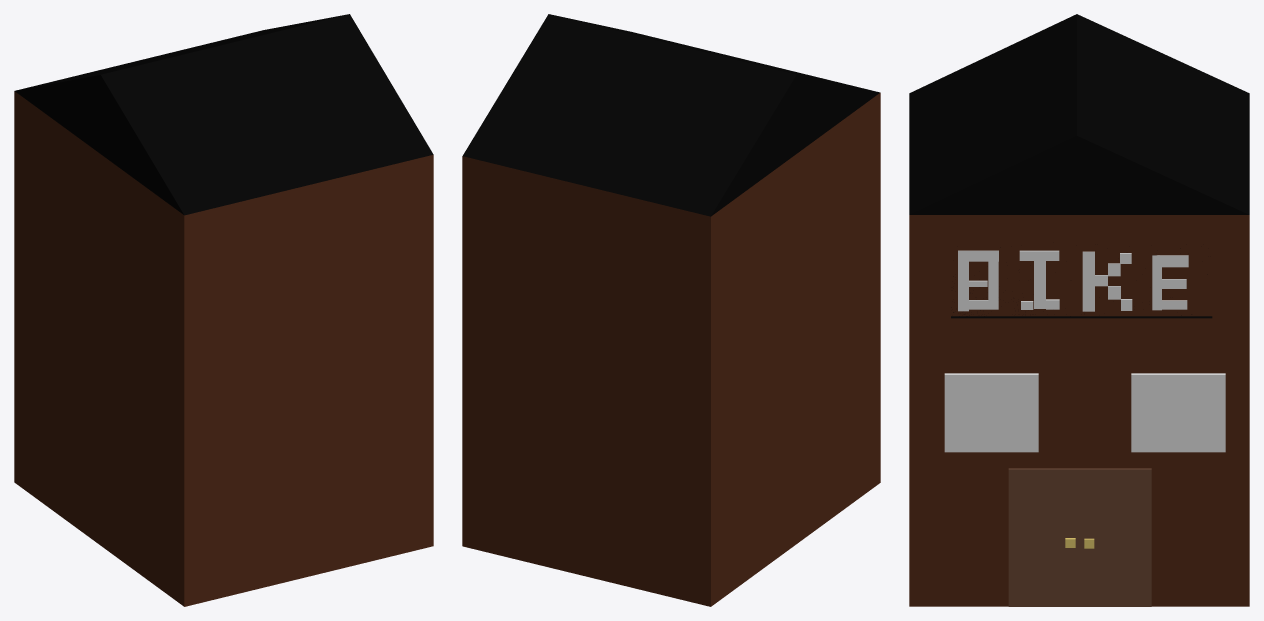
The model's file is BikeshopFixed2.fbx.
The picture shows the model from 3 angles, left to right: view 1: azimuth 30°, elevation 25°; view 2: azimuth 150°, elevation 25°; view 3: azimuth 270°, elevation 25°; orthographic projection.
Parts seen in each view (by area): view 1: Cube.001; view 2: Cube.001; view 3: Cube.001.
Boxes of the visible parts, bbox=[...] form: Cube.001: bbox=[14, 14, 433, 606]; Cube.001: bbox=[462, 14, 880, 606]; Cube.001: bbox=[909, 14, 1249, 606].
Size of the model in its own units: 261 by 458 by 300.
